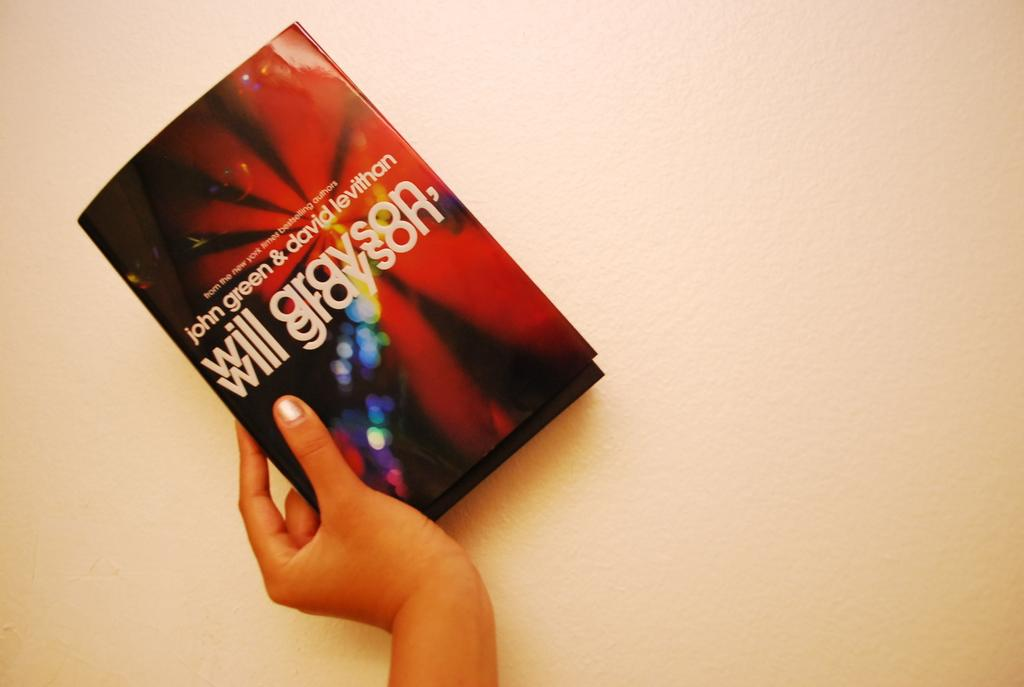Book: (42, 3, 584, 563)
